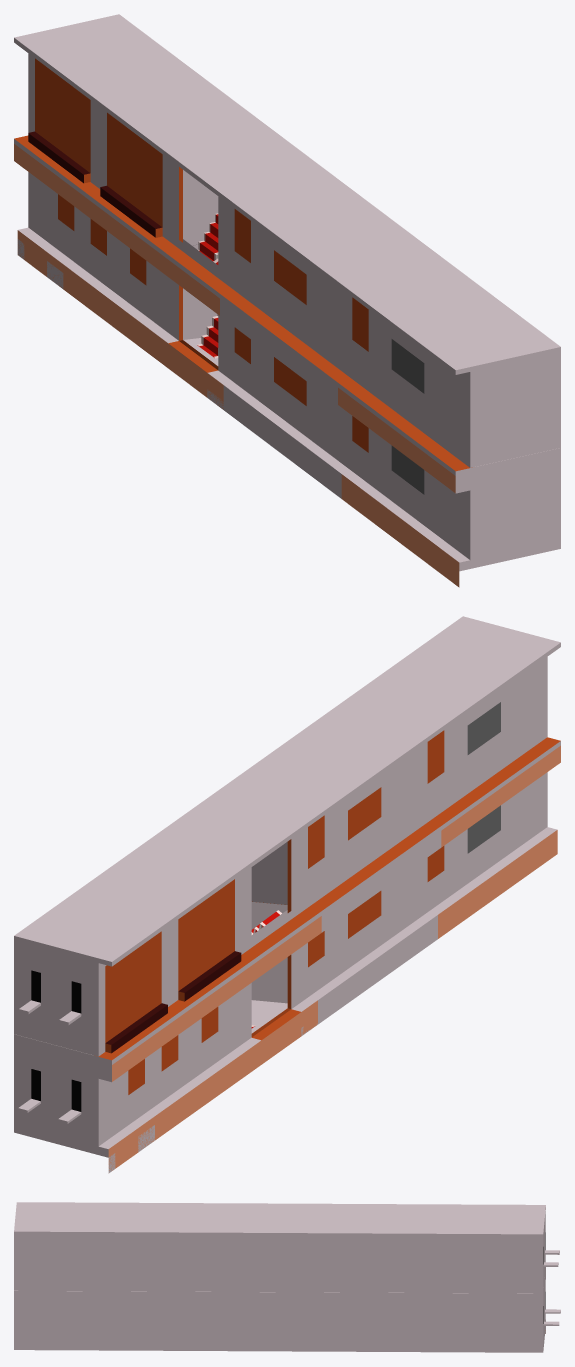
File: TechMall.FBX
The picture shows the model from 3 angles, top to bottom: view 1: azimuth 30°, elevation 25°; view 2: azimuth 150°, elevation 25°; view 3: azimuth 270°, elevation 25°; orthographic projection. The views are drawn at different scales.
Parts seen in each view (by area): view 1: Circle.396; view 2: Circle.396; view 3: Circle.396.
Part boxes in pixels (left/top/right/bottom): Circle.396: left=14, top=14, right=560, bottom=587; Circle.396: left=14, top=616, right=560, bottom=1173; Circle.396: left=14, top=1202, right=560, bottom=1352.
Bounding box in the file's own units: 1.44 × 10.38 × 2.68.
